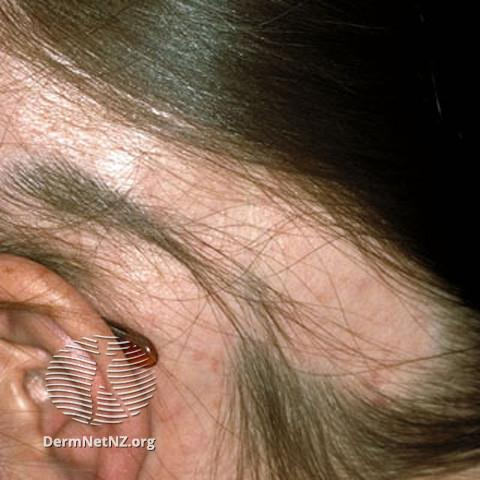Alopecia Areata: (4, 62, 451, 390)
